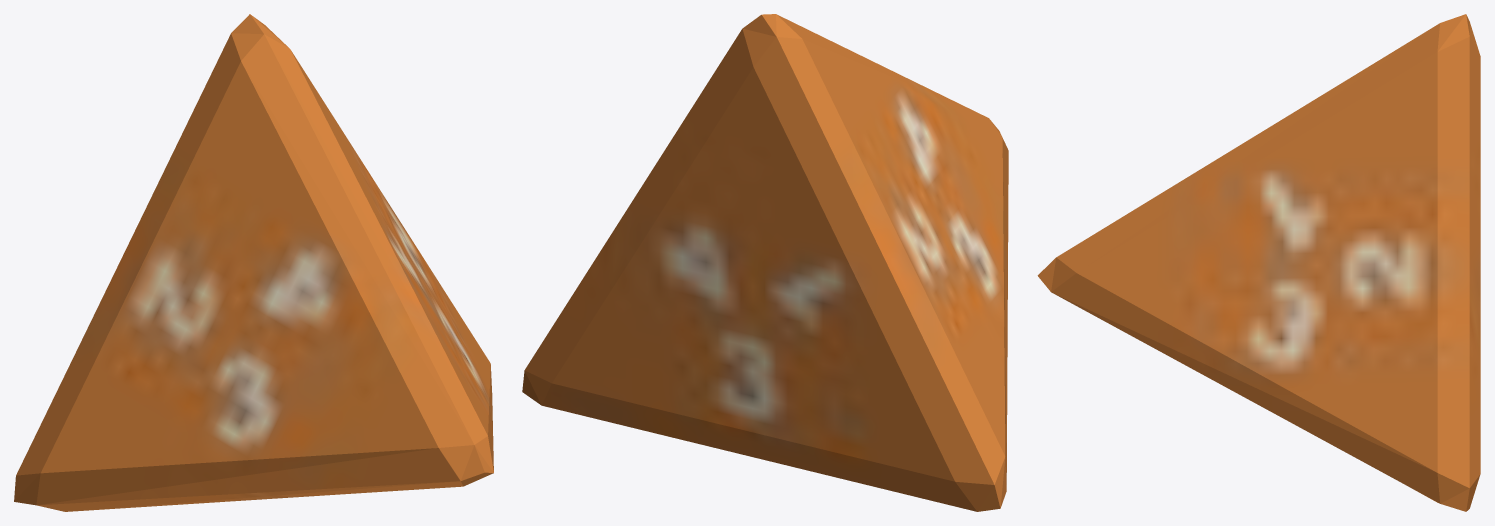
3 views of the same model, side by side, from view 1: azimuth 30°, elevation 25°; view 2: azimuth 150°, elevation 25°; view 3: azimuth 270°, elevation 25° (orthographic). The views are drawn at different scales.
Parts seen in each view (by area): view 1: d4.obj; view 2: d4.obj; view 3: d4.obj.
Boxes of the visible parts, x1=… form: d4.obj: x1=14, y1=14, x2=493, y2=511; d4.obj: x1=522, y1=14, x2=1008, y2=511; d4.obj: x1=1037, y1=14, x2=1480, y2=511.
Bounding box in the file's own units: 1 × 0.8856 × 0.8903.
1 material, 1 textured.
